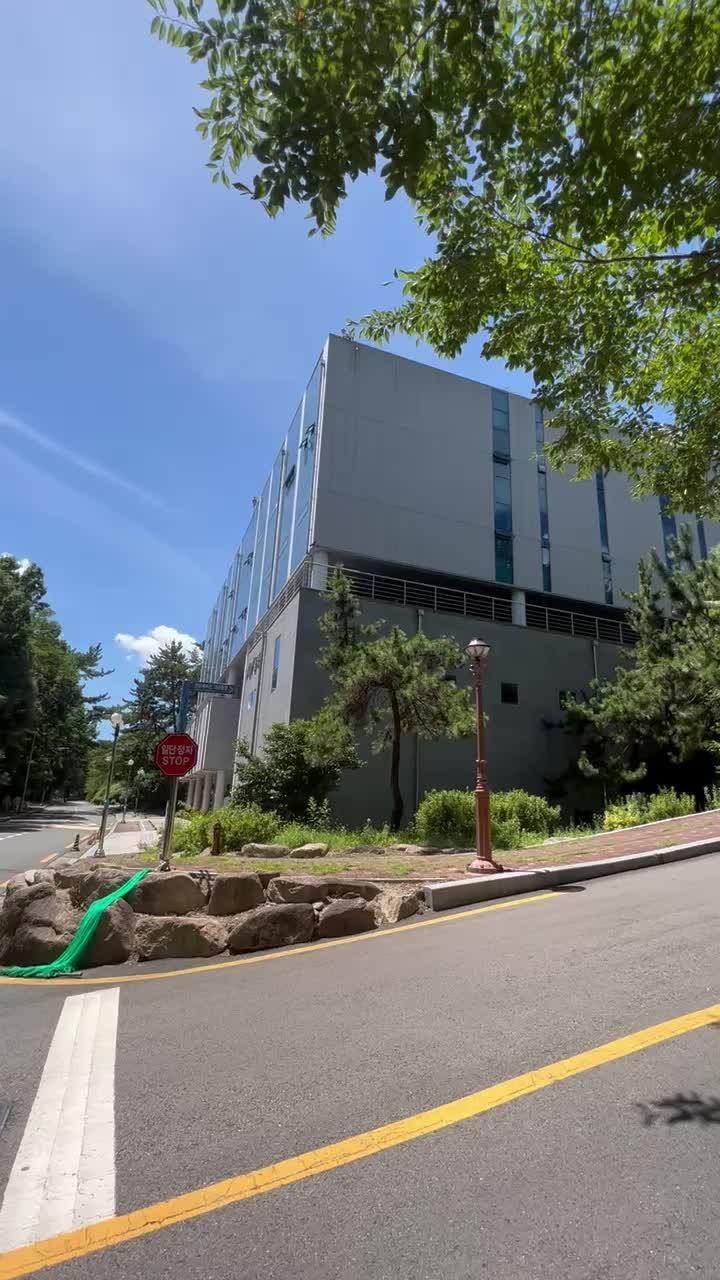building: (186, 394, 594, 694)
